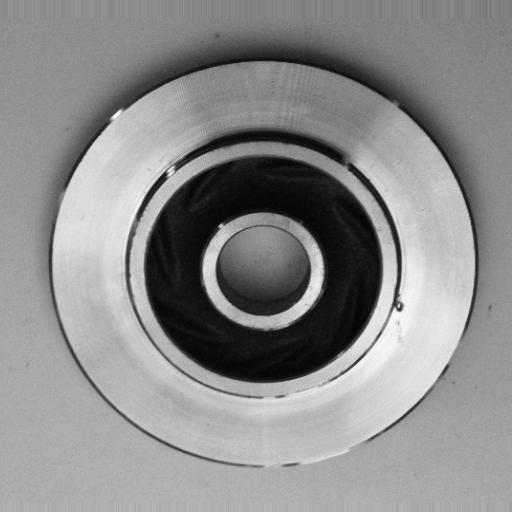crack: (385, 289, 411, 325)
scratch: (152, 151, 192, 197)
unpolished_casting: (45, 54, 480, 474)
